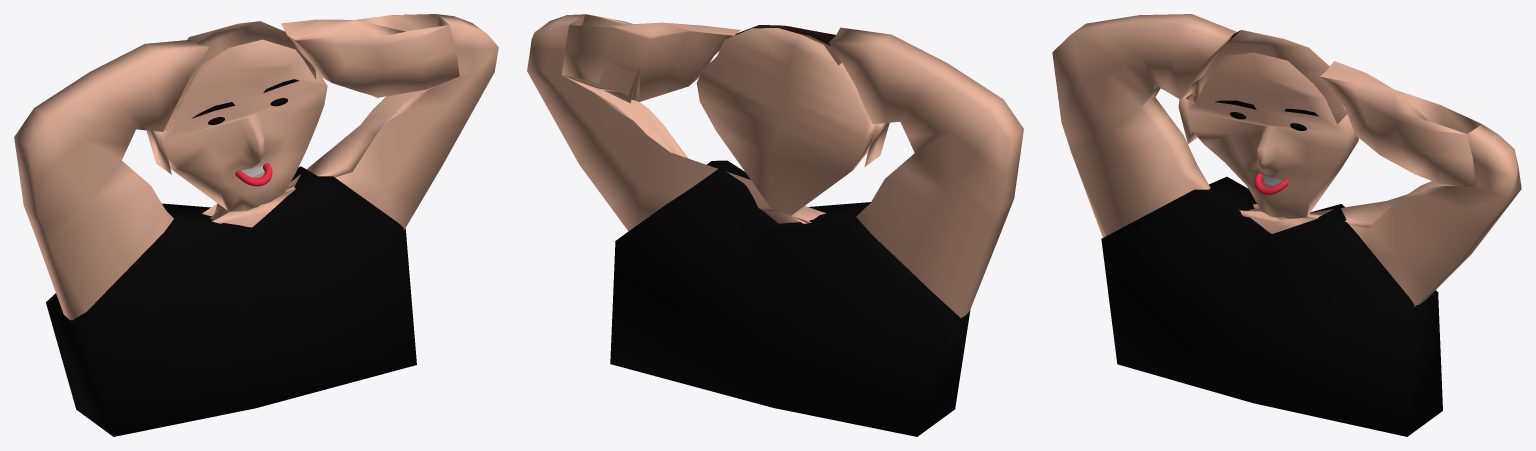
File: elon.glb
The picture shows the model from 3 angles, left to right: view 1: azimuth 30°, elevation 25°; view 2: azimuth 150°, elevation 25°; view 3: azimuth 330°, elevation 25°; orthographic projection. The views are drawn at different scales.
Parts seen in each view (by area): view 1: elon, shirt; view 2: elon, shirt; view 3: elon, shirt.
Boxes of the visible parts, x1,y1,x2,y2 form: elon: [14, 14, 498, 320]; shirt: [46, 166, 416, 436]; elon: [527, 14, 1023, 317]; shirt: [610, 160, 970, 436]; elon: [1052, 14, 1521, 306]; shirt: [1101, 176, 1442, 436].
Bounding box in the file's own units: 4.07 × 3.02 × 0.5554.
